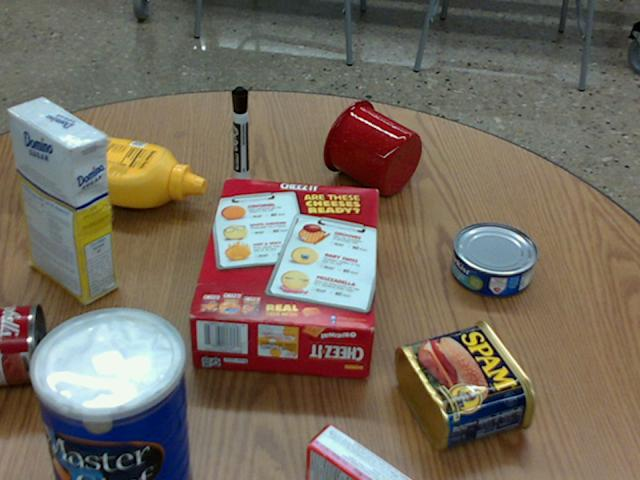cracker_box: (188, 180, 377, 376)
gelatin_box: (304, 422, 412, 479)
large_marker: (231, 86, 247, 183)
master_chef_can: (27, 306, 188, 479)
mug: (323, 100, 421, 195)
mustard_bottle: (21, 128, 204, 207)
potted_meat_can: (395, 320, 535, 450)
sugar_box: (8, 97, 113, 304)
tomato_soup_can: (0, 302, 46, 382)
tuna_fish_can: (451, 222, 537, 296)
